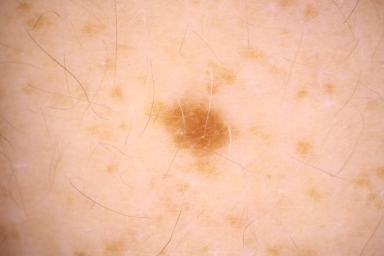nevus: (167, 111, 231, 158)
